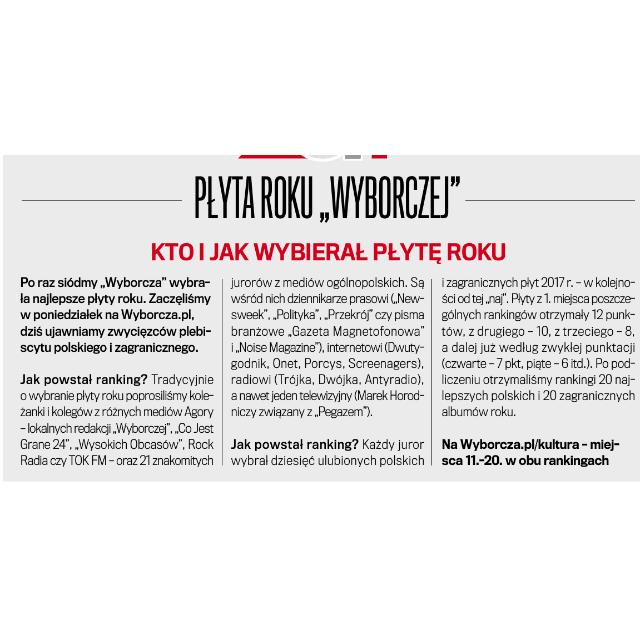body: (227, 274, 428, 471), (442, 273, 638, 471), (18, 370, 216, 470)
lead: (16, 273, 212, 357)
title: (151, 170, 513, 266)
